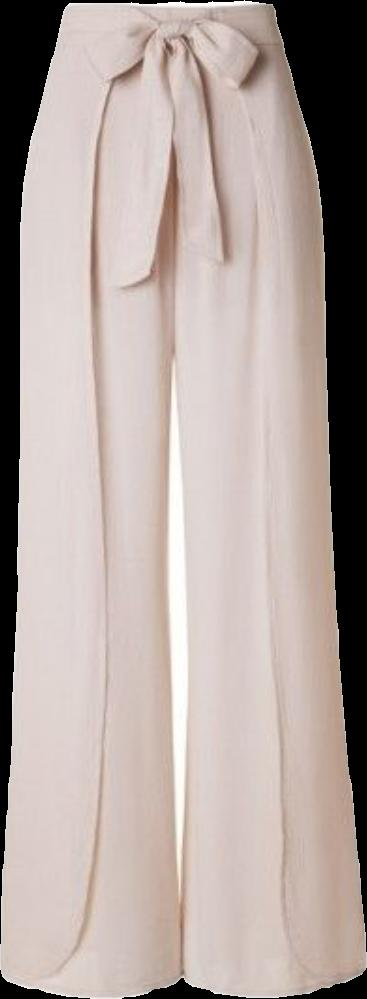Hemline: (0, 5, 186, 984), (184, 4, 366, 989), (181, 960, 366, 997), (0, 968, 180, 997)
Pantleg: (173, 0, 366, 996), (0, 0, 179, 998)
Waistline: (62, 0, 268, 14)
